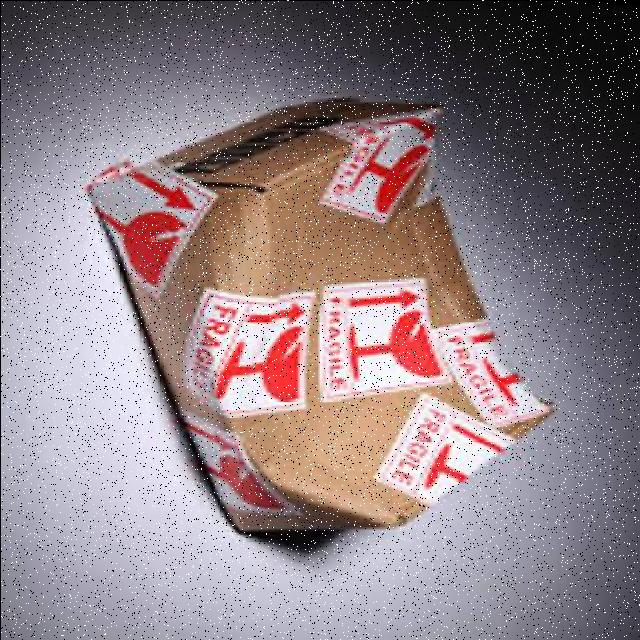defect: (84, 88, 554, 538)
